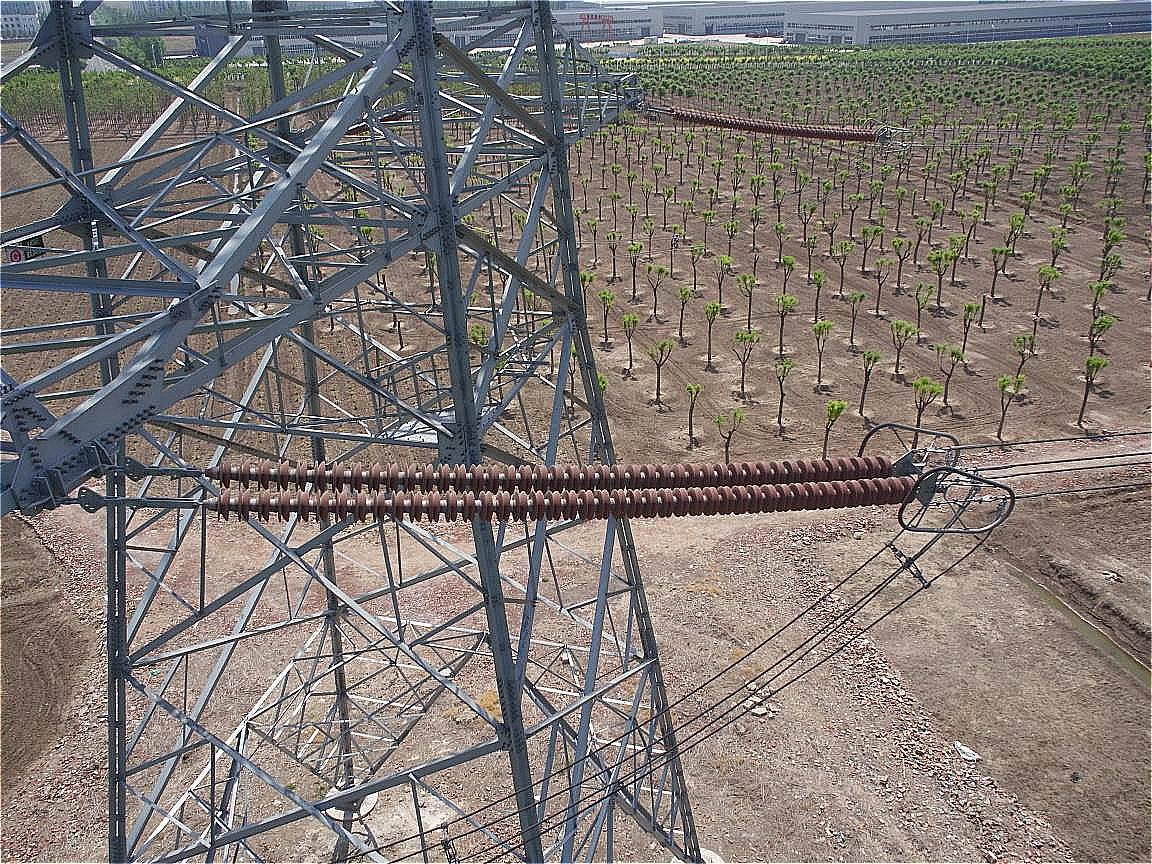insultor2: (200, 422, 923, 529), (659, 93, 883, 150)
